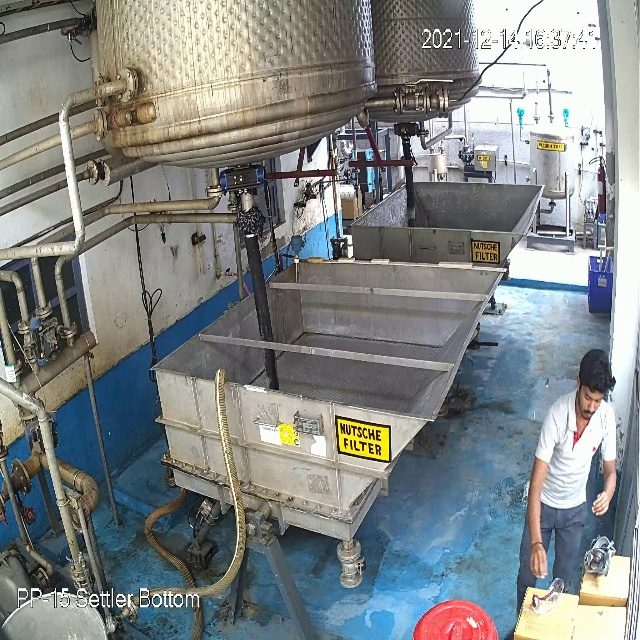Sin_gafas: (575, 380, 605, 408)
Sin_guantes: (522, 468, 552, 585)
Sin_mascara: (576, 398, 599, 425)
